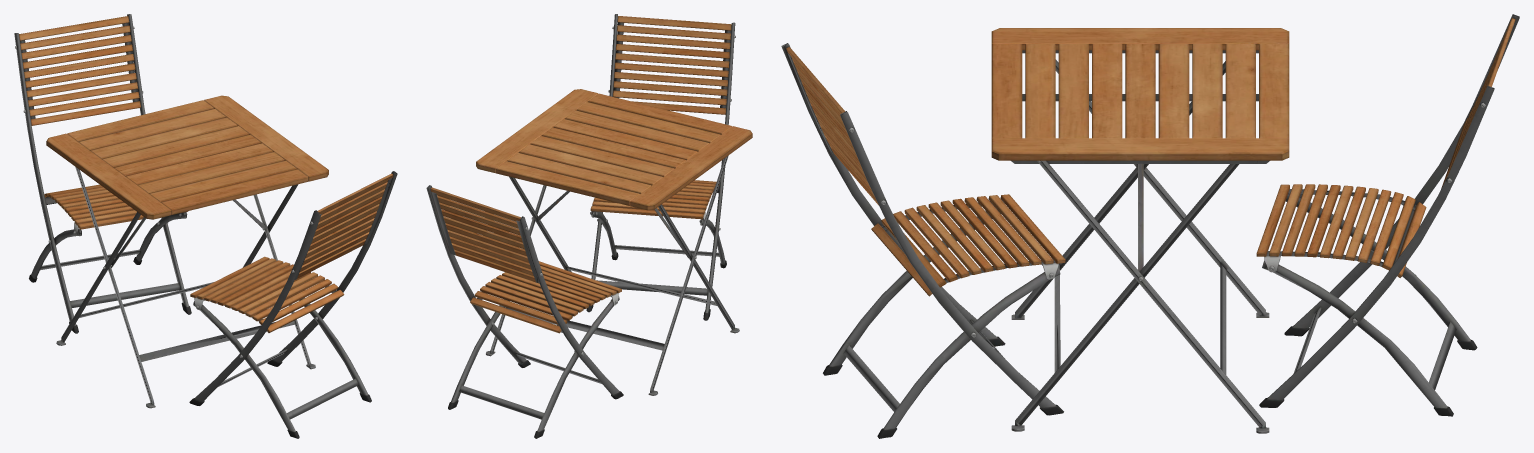
The model's file is outdoor_table_chair_set_01.glb.
The picture shows the model from 3 angles, left to right: view 1: azimuth 30°, elevation 25°; view 2: azimuth 150°, elevation 25°; view 3: azimuth 270°, elevation 25°; orthographic projection. The views are drawn at different scales.
Visible parts, largest first — view 1: outdoor_table_chair_set_01_chair_01, outdoor_table_chair_set_01_table; view 2: outdoor_table_chair_set_01_chair_01, outdoor_table_chair_set_01_table; view 3: outdoor_table_chair_set_01_table, outdoor_table_chair_set_01_chair_01.
Boxes of the visible parts, x1=… form: outdoor_table_chair_set_01_chair_01: x1=14, y1=14, x2=397, y2=438; outdoor_table_chair_set_01_table: x1=46, y1=95, x2=328, y2=408; outdoor_table_chair_set_01_chair_01: x1=426, y1=14, x2=735, y2=438; outdoor_table_chair_set_01_table: x1=476, y1=89, x2=752, y2=395; outdoor_table_chair_set_01_table: x1=991, y1=28, x2=1289, y2=433; outdoor_table_chair_set_01_chair_01: x1=781, y1=14, x2=1519, y2=438.
Bounding box in the file's own units: 0.7417 × 0.8576 × 1.72.
2 materials, 2 textured.
